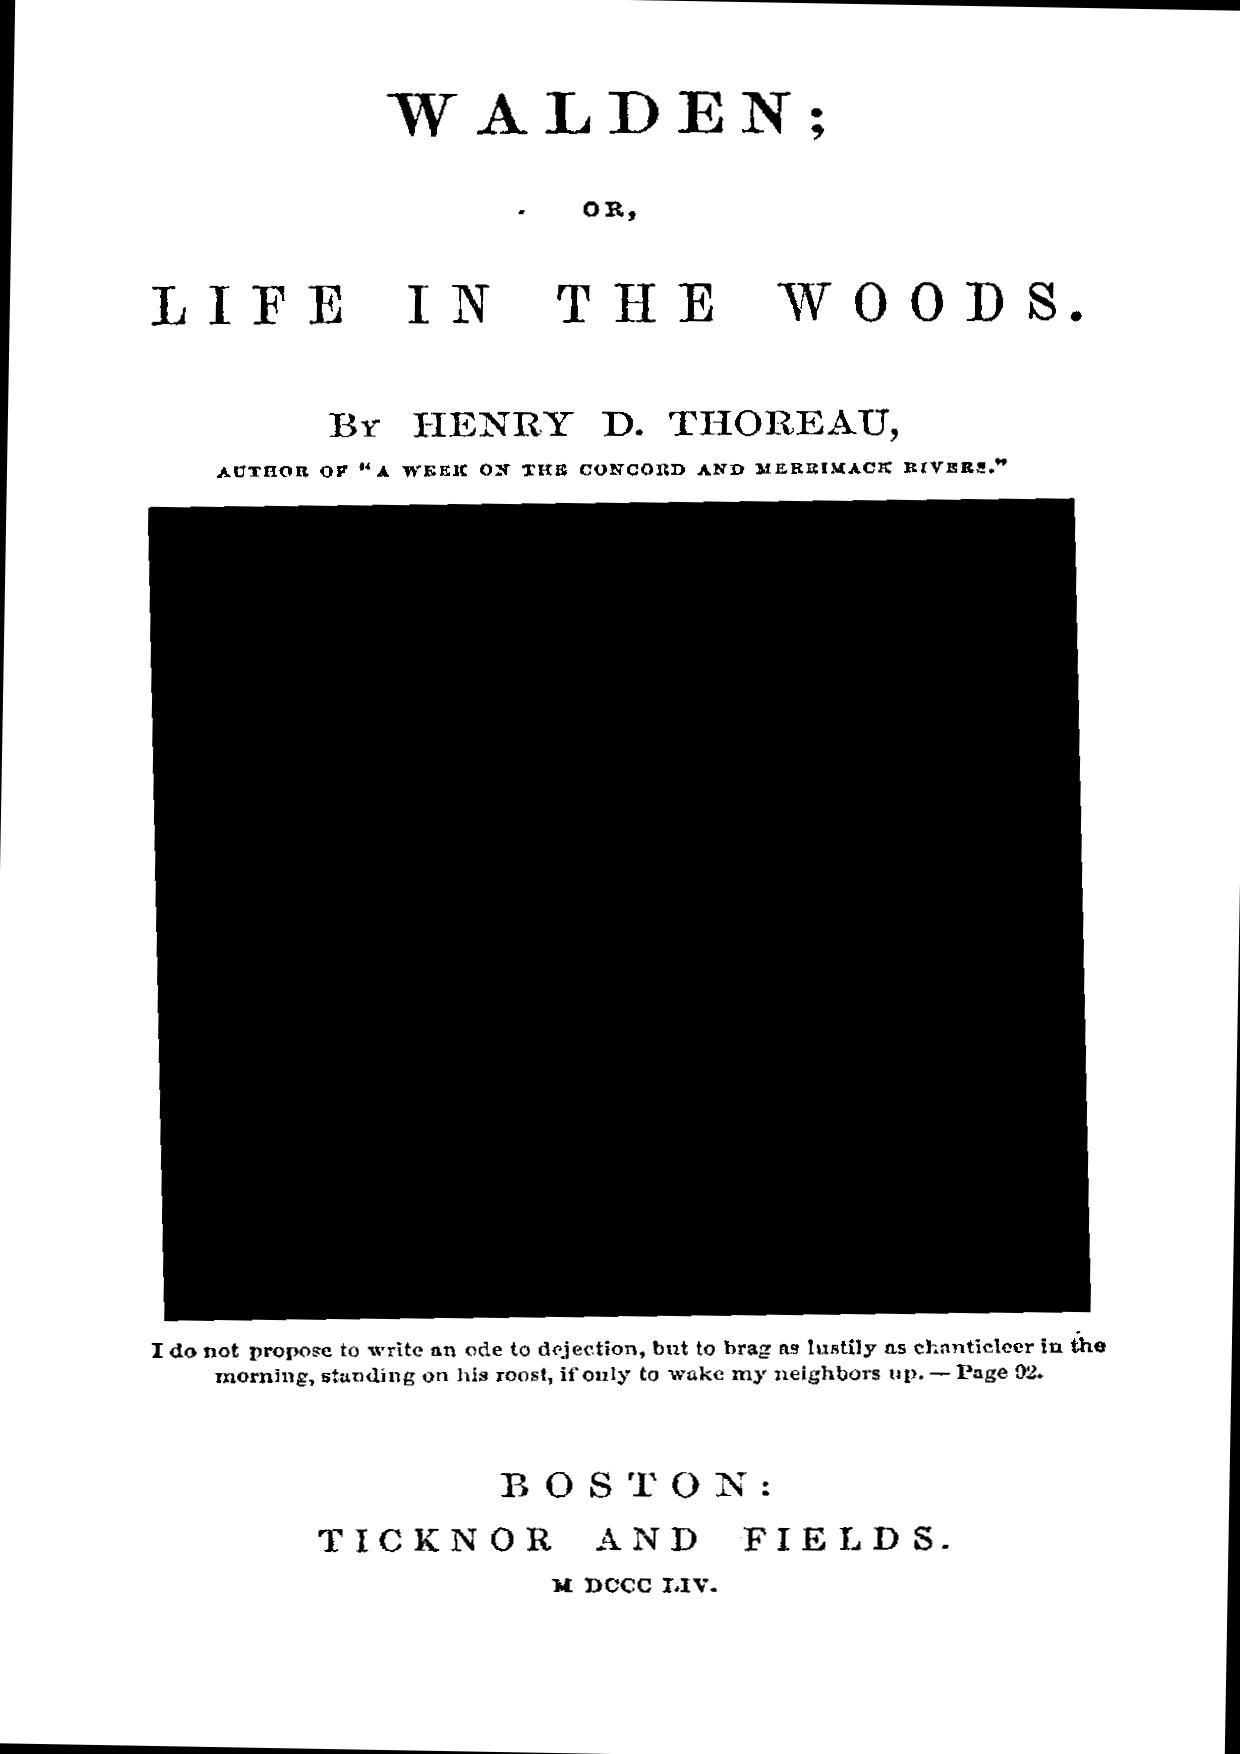author: (323, 409, 900, 443)
title: (148, 87, 1082, 330)
